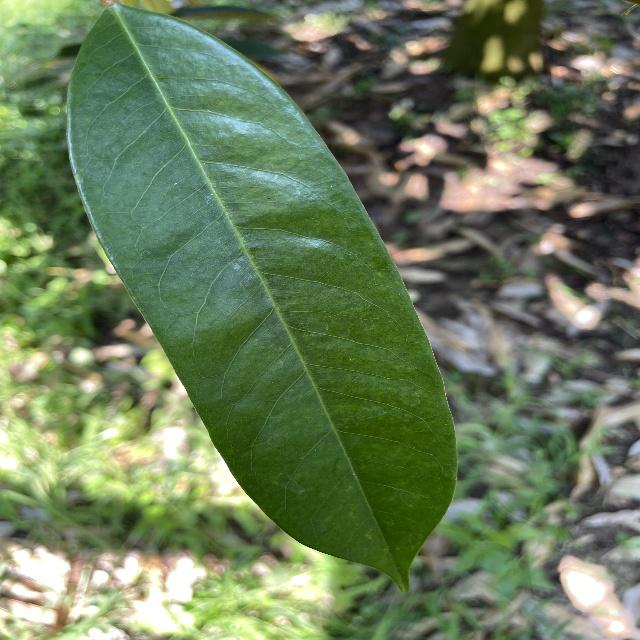No Disease: (57, 0, 469, 600)
